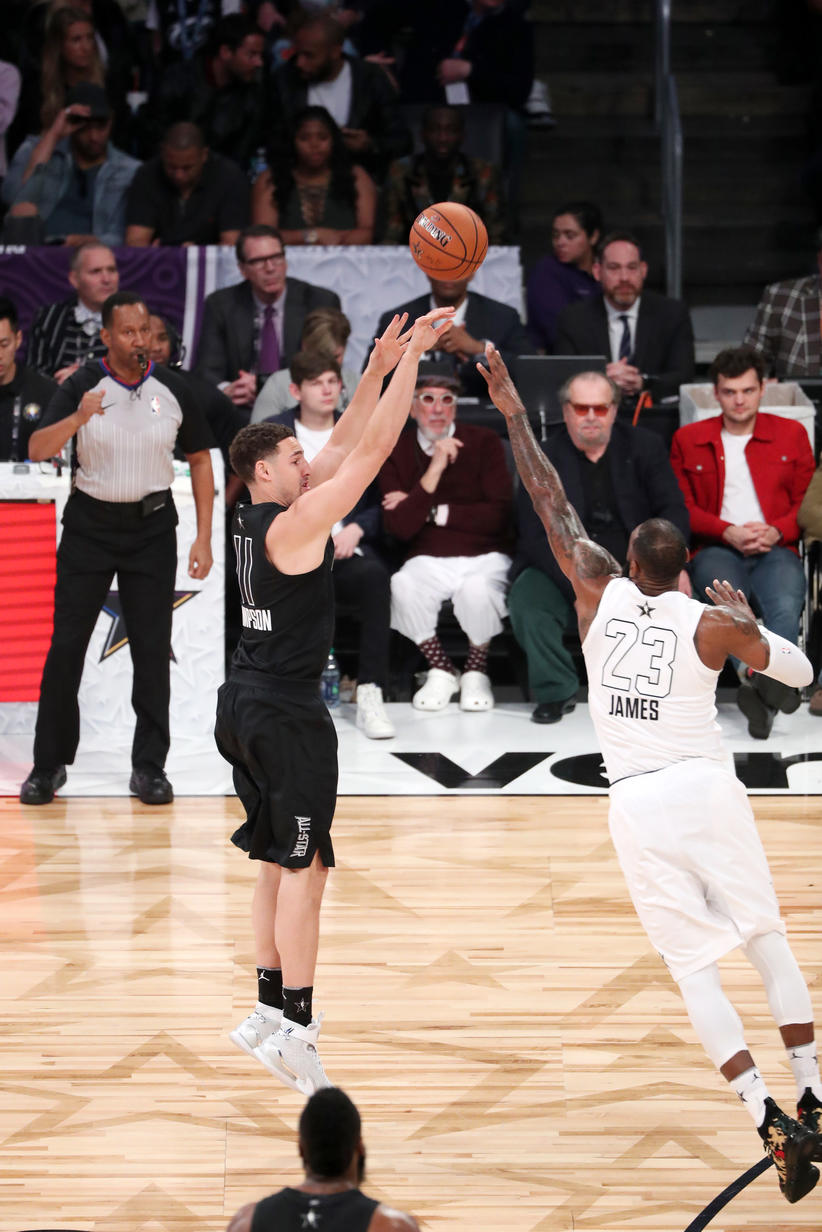ball: (408, 199, 482, 287)
player: (532, 463, 822, 1178), (233, 416, 370, 1092)
referee: (36, 318, 186, 849)
